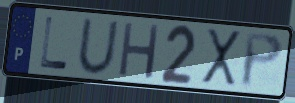2: (160, 22, 199, 88)
H: (116, 20, 162, 81)
L: (38, 14, 70, 72)
P: (239, 31, 285, 91)
U: (75, 17, 121, 76)
X: (201, 27, 243, 88)
